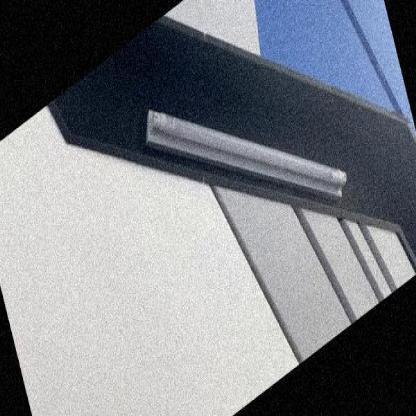light_off: (129, 0, 359, 343)
